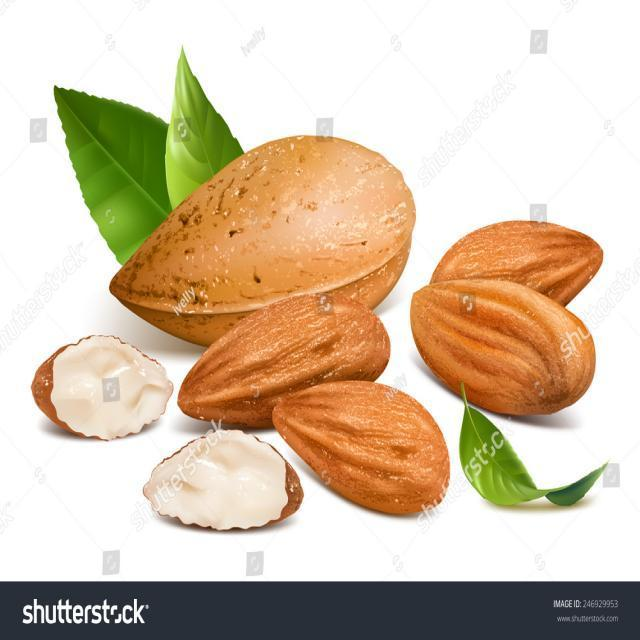almond: (177, 297, 392, 428), (408, 279, 597, 419), (272, 379, 452, 519), (428, 217, 605, 310)
